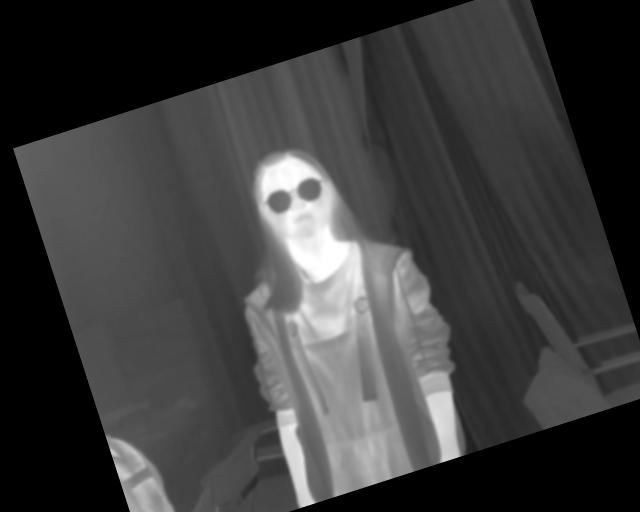face: (245, 137, 345, 252)
